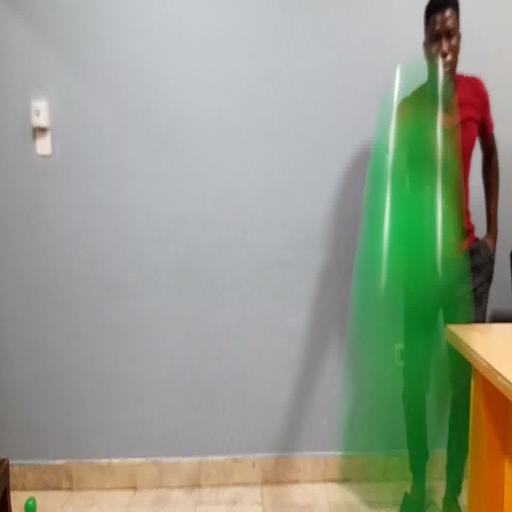plastic-ball: (351, 60, 476, 412)
